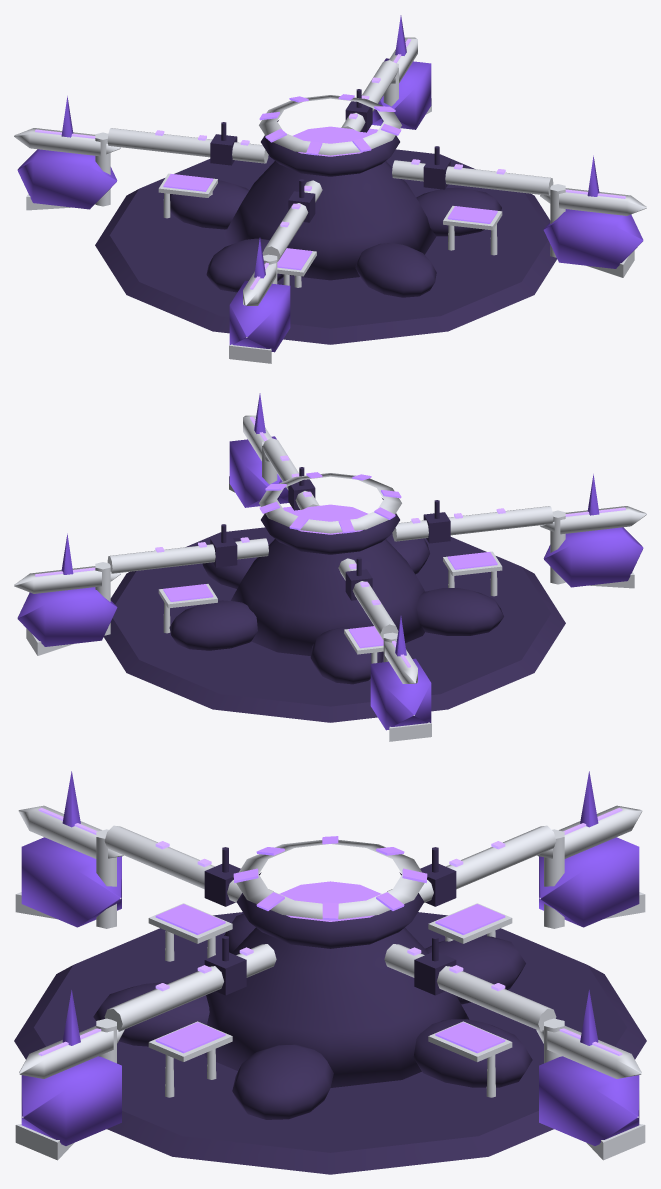
Rendered from vent-tap-hadron.glb.
The picture shows the model from 3 angles, top to bottom: view 1: azimuth 30°, elevation 25°; view 2: azimuth 150°, elevation 25°; view 3: azimuth 270°, elevation 25°; orthographic projection. The views are drawn at different scales.
Visible parts, largest first — view 1: apron, exchanger_prism (×4), vent_chimney, draw_pipe (×4), exchanger_frame (×4), basalt_lobe_2, clamp_ring, basalt_lobe_4, manifold_ring, basalt_lobe_1, basalt_lobe_3, platform_flood (×3) (+4 smaller); view 2: apron, exchanger_prism (×4), vent_chimney, draw_pipe (×4), exchanger_frame (×4), basalt_lobe_0, basalt_lobe_3, clamp_ring, basalt_lobe_4, manifold_ring, platform_flood (×3), valve_block (×2) (+5 smaller); view 3: apron, exchanger_prism (×4), vent_chimney, draw_pipe (×4), exchanger_frame (×4), basalt_lobe_1, clamp_ring, platform_flood (×4), basalt_lobe_0, valve_block (×4), manifold_ring, platform (×4) (+6 smaller).
Part boxes in pixels (box(x1,y1,x2,y2)): apron: box(95, 149, 556, 344); exchanger_prism (×4): box(17, 58, 643, 352); vent_chimney: box(224, 161, 436, 280); draw_pipe (×4): box(107, 60, 553, 261); exchanger_frame (×4): box(14, 37, 646, 306); basalt_lobe_2: box(355, 243, 436, 297); clamp_ring: box(261, 120, 399, 176); basalt_lobe_4: box(170, 180, 249, 229); manifold_ring: box(259, 95, 401, 155); basalt_lobe_1: box(416, 187, 501, 236); basalt_lobe_3: box(206, 238, 283, 292); platform_flood (×3): box(163, 174, 497, 270); apron: box(104, 527, 565, 722); exchanger_prism (×4): box(17, 436, 643, 730); vent_chimney: box(231, 539, 424, 655); draw_pipe (×4): box(107, 438, 553, 639); exchanger_frame (×4): box(14, 415, 646, 684); basalt_lobe_0: box(169, 600, 257, 650); basalt_lobe_3: box(416, 588, 503, 635); clamp_ring: box(261, 498, 399, 554); basalt_lobe_4: box(310, 627, 383, 684); manifold_ring: box(259, 473, 401, 533); platform_flood (×3): box(163, 552, 497, 648); valve_block (×2): box(210, 512, 450, 567); apron: box(14, 912, 646, 1174); exchanger_prism (×4): box(21, 837, 639, 1145); vent_chimney: box(204, 927, 469, 1087); draw_pipe (×4): box(104, 825, 556, 1031); exchanger_frame (×4): box(18, 805, 642, 1078); basalt_lobe_1: box(232, 1044, 333, 1119); clamp_ring: box(237, 872, 423, 948); platform_flood (×4): box(155, 904, 505, 1053); basalt_lobe_0: box(413, 1019, 532, 1087); valve_block (×4): box(204, 864, 456, 995); manifold_ring: box(236, 839, 424, 920); platform (×4): box(148, 903, 512, 1061).
Bounding box in the file's own units: 173 × 52.29 × 173.
